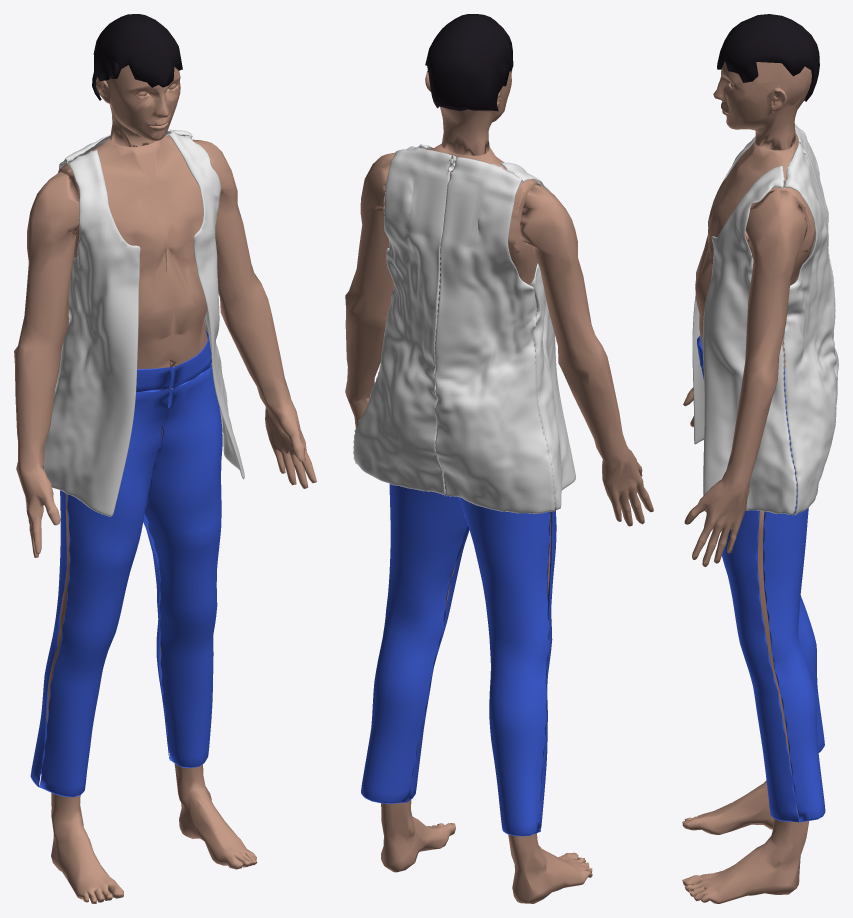
File: MannequinPrefab.fbx
3 renders of one model, left to right at view 1: azimuth 30°, elevation 25°; view 2: azimuth 150°, elevation 25°; view 3: azimuth 270°, elevation 25°, orthographic. The views are drawn at different scales.
Parts seen in each view (by area): view 1: pants, shirt, torso, arm_rechts_gerade, arm_links_gerade, bein_rechts, haare, kopf, bein_links; view 2: shirt, pants, arm_rechts_gerade, arm_links_gerade, haare, bein_rechts, bein_links, kopf, torso; view 3: shirt, pants, arm_links_gerade, bein_links, kopf, torso, haare, bein_rechts.
Part boxes in pixels (x1=…): pants: x1=30, y1=330, x2=222, y2=797; shirt: x1=43, y1=129, x2=244, y2=516; torso: x1=58, y1=135, x2=207, y2=441; arm_rechts_gerade: x1=14, y1=172, x2=79, y2=557; arm_links_gerade: x1=192, y1=139, x2=316, y2=488; bein_rechts: x1=46, y1=493, x2=123, y2=903; haare: x1=92, y1=14, x2=182, y2=100; kopf: x1=96, y1=65, x2=180, y2=147; bein_links: x1=160, y1=645, x2=257, y2=869; shirt: x1=353, y1=144, x2=575, y2=513; pants: x1=361, y1=473, x2=556, y2=836; arm_rechts_gerade: x1=519, y1=184, x2=653, y2=526; arm_links_gerade: x1=345, y1=152, x2=395, y2=428; haare: x1=425, y1=14, x2=513, y2=111; bein_rechts: x1=508, y1=511, x2=592, y2=903; bein_links: x1=381, y1=561, x2=456, y2=872; kopf: x1=425, y1=69, x2=512, y2=155; torso: x1=383, y1=143, x2=539, y2=317; shirt: x1=692, y1=124, x2=838, y2=515; pants: x1=697, y1=335, x2=825, y2=822; arm_links_gerade: x1=684, y1=189, x2=807, y2=566; bein_links: x1=682, y1=511, x2=808, y2=903; kopf: x1=713, y1=61, x2=811, y2=150; torso: x1=695, y1=133, x2=815, y2=368; haare: x1=717, y1=14, x2=819, y2=101; bein_rechts: x1=682, y1=780, x2=773, y2=834.
Bounding box in the file's own units: 57.92 × 166 × 27.86.
